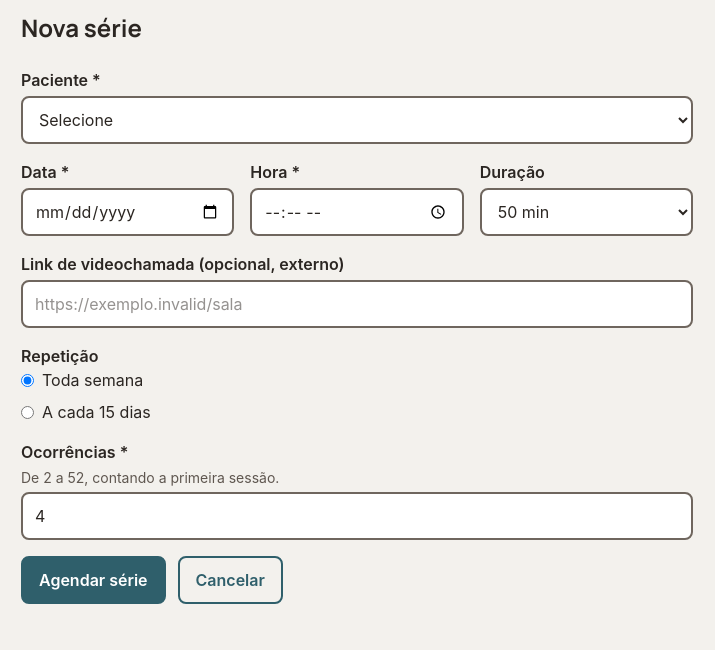
Scenario: Nova série (AGE-13, AGE-14) › ocorrências  (fora de 2 a 52) não envia
Select "Ana Souza" in the dropdown labelled "Paciente *" at [357, 120], box x1=21 y1=96 x2=693 y2=144
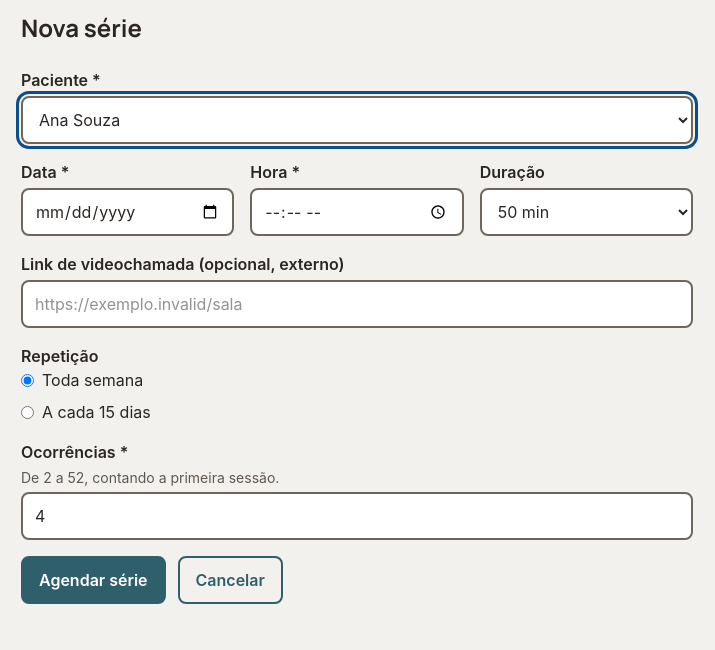
Type "2026-10-27" into the date field labelled "Data *" at [128, 212], box x1=21 y1=188 x2=234 y2=236
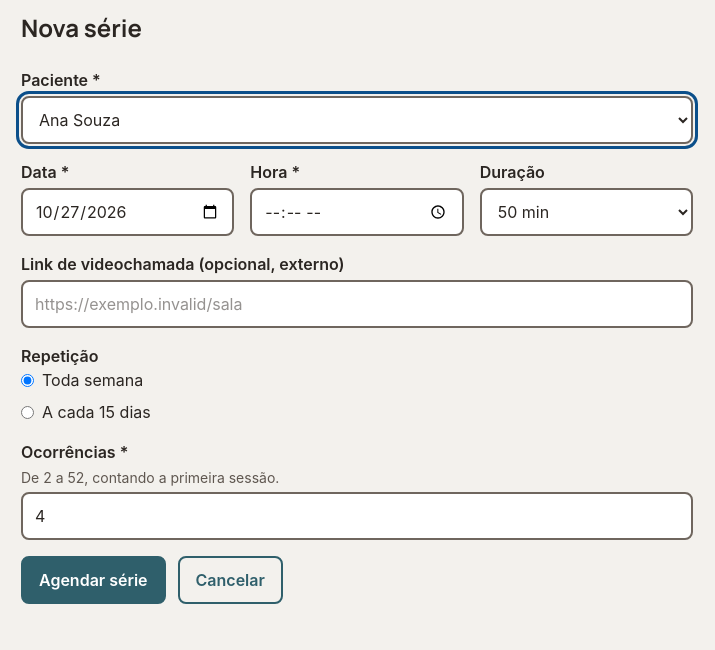
Type "09:00" into the time field labelled "Hora *" at [357, 212], box x1=250 y1=188 x2=464 y2=236
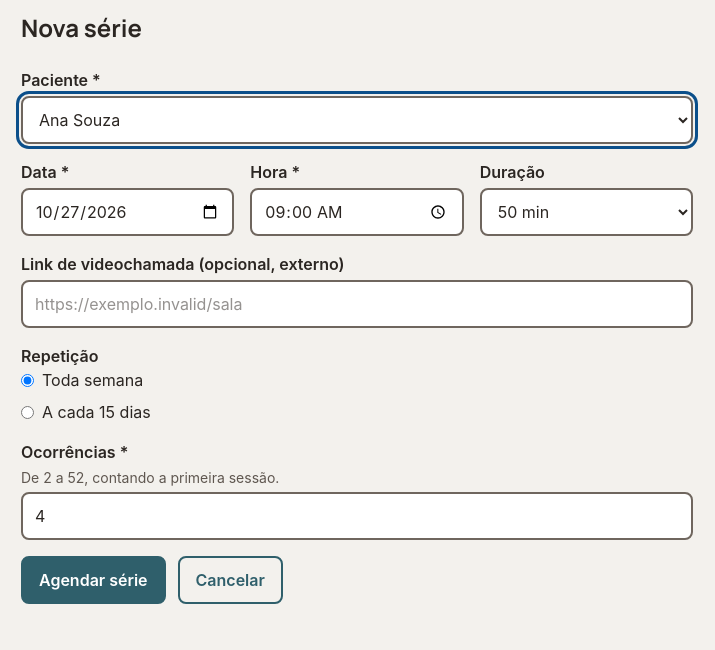
Clear the number field labelled "Ocorrências *" at [357, 516], box x1=21 y1=492 x2=693 y2=540
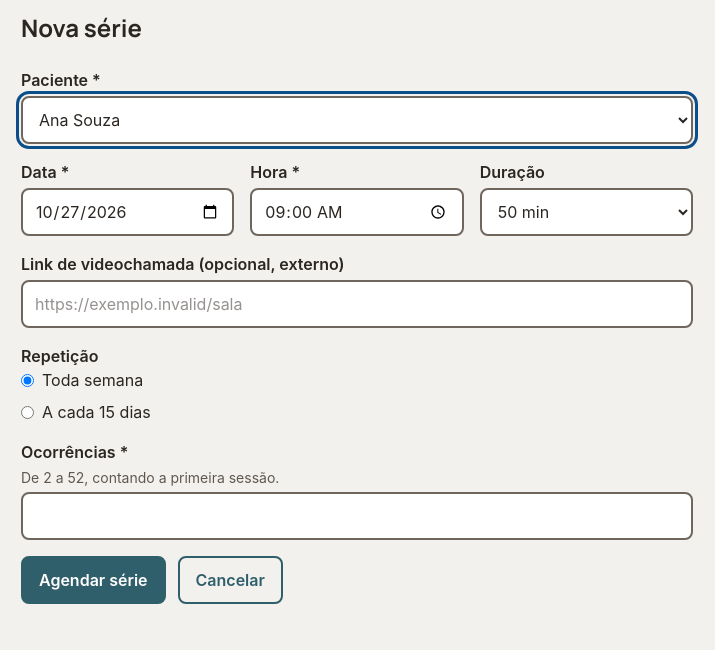
Click the button "Agendar série" at [93, 580], box x1=21 y1=556 x2=166 y2=604
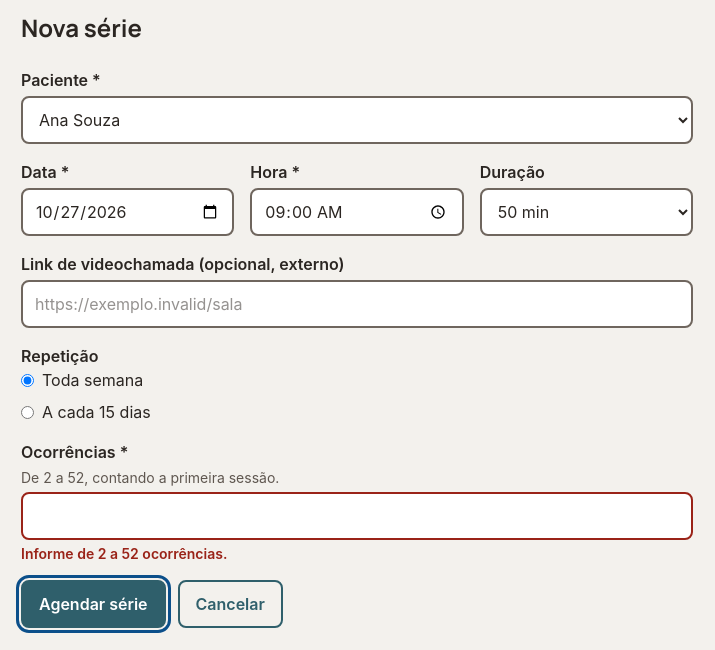
Result: the text "Informe de 2 a 52 ocorrências." is shown at x1=21 y1=545 x2=227 y2=562
